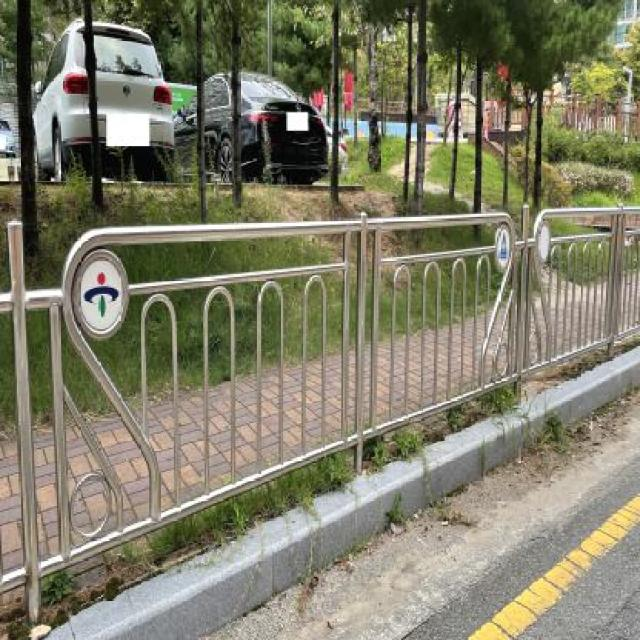fence: (36, 180, 370, 567), (344, 157, 640, 426)
